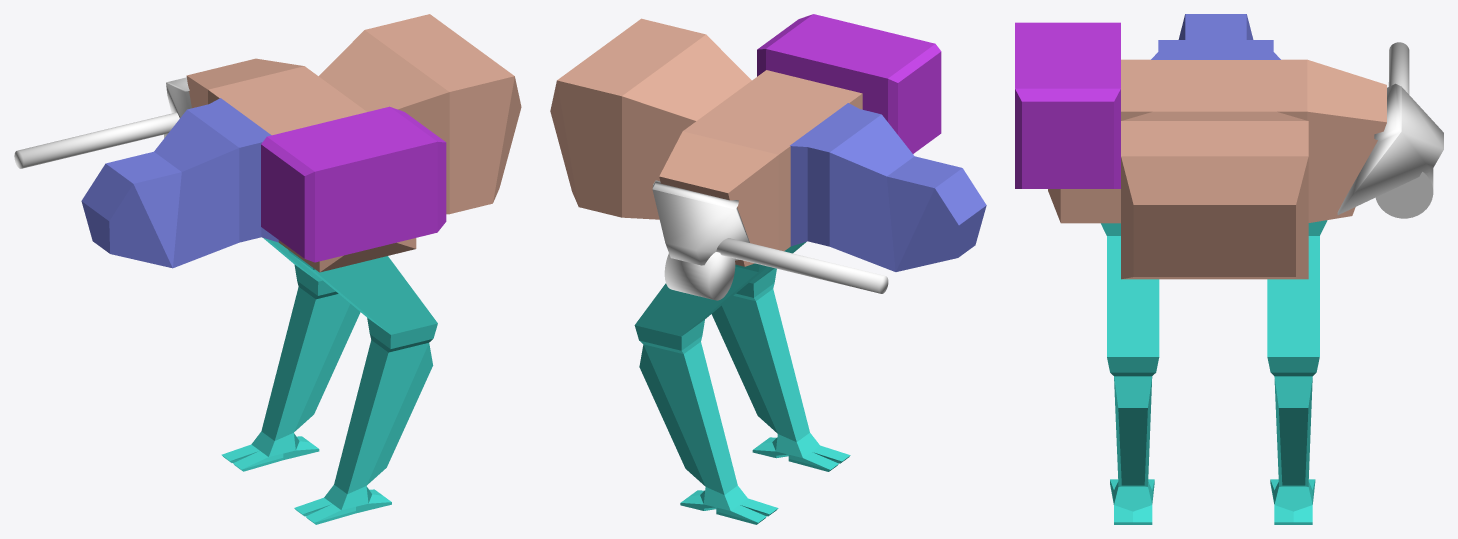
File: Golum.glb
The picture shows the model from 3 angles, left to right: view 1: azimuth 30°, elevation 25°; view 2: azimuth 150°, elevation 25°; view 3: azimuth 270°, elevation 25°; orthographic projection. The views are drawn at different scales.
Visible parts, largest first — view 1: MechBody, Launcher, Cockpit, Leg, Leg.001, Cannon; view 2: MechBody, Cockpit, Leg.001, Launcher, Cannon, Leg; view 3: MechBody, Launcher, Leg, Leg.001, Cannon, Cockpit.
Part boxes in pixels (x1=…): MechBody: x1=186, y1=14, x2=521, y2=272; Launcher: x1=261, y1=106, x2=446, y2=262; Cockpit: x1=81, y1=98, x2=278, y2=268; Leg: x1=288, y1=249, x2=437, y2=524; Leg.001: x1=221, y1=238, x2=360, y2=471; Cannon: x1=14, y1=77, x2=191, y2=168; MechBody: x1=550, y1=18, x2=862, y2=266; Cockpit: x1=790, y1=103, x2=986, y2=271; Leg.001: x1=634, y1=263, x2=778, y2=524; Launcher: x1=757, y1=14, x2=941, y2=153; Cannon: x1=652, y1=180, x2=888, y2=300; Leg: x1=711, y1=242, x2=850, y2=471; MechBody: x1=1048, y1=59, x2=1386, y2=279; Launcher: x1=1015, y1=22, x2=1120, y2=188; Leg: x1=1101, y1=223, x2=1159, y2=524; Leg.001: x1=1267, y1=220, x2=1327, y2=524; Cannon: x1=1337, y1=42, x2=1443, y2=218; Cockpit: x1=1151, y1=14, x2=1280, y2=59.
Bounding box in the file's own units: 8.05 × 7.82 × 6.96.
